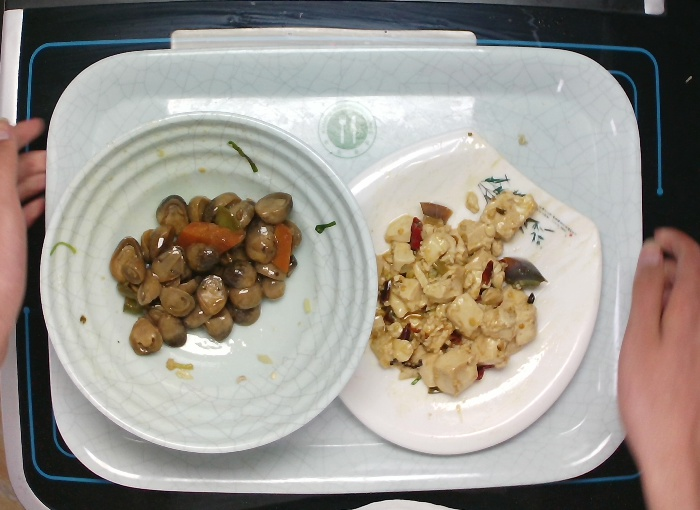JYsf-Da_Tang_Wan: (35, 111, 377, 458)
JYsf-Mian_Pan: (293, 130, 608, 460)
